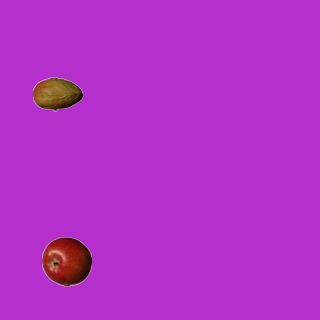Apple Braeburn: (41, 236, 91, 286)
Papaya: (32, 69, 82, 119)
